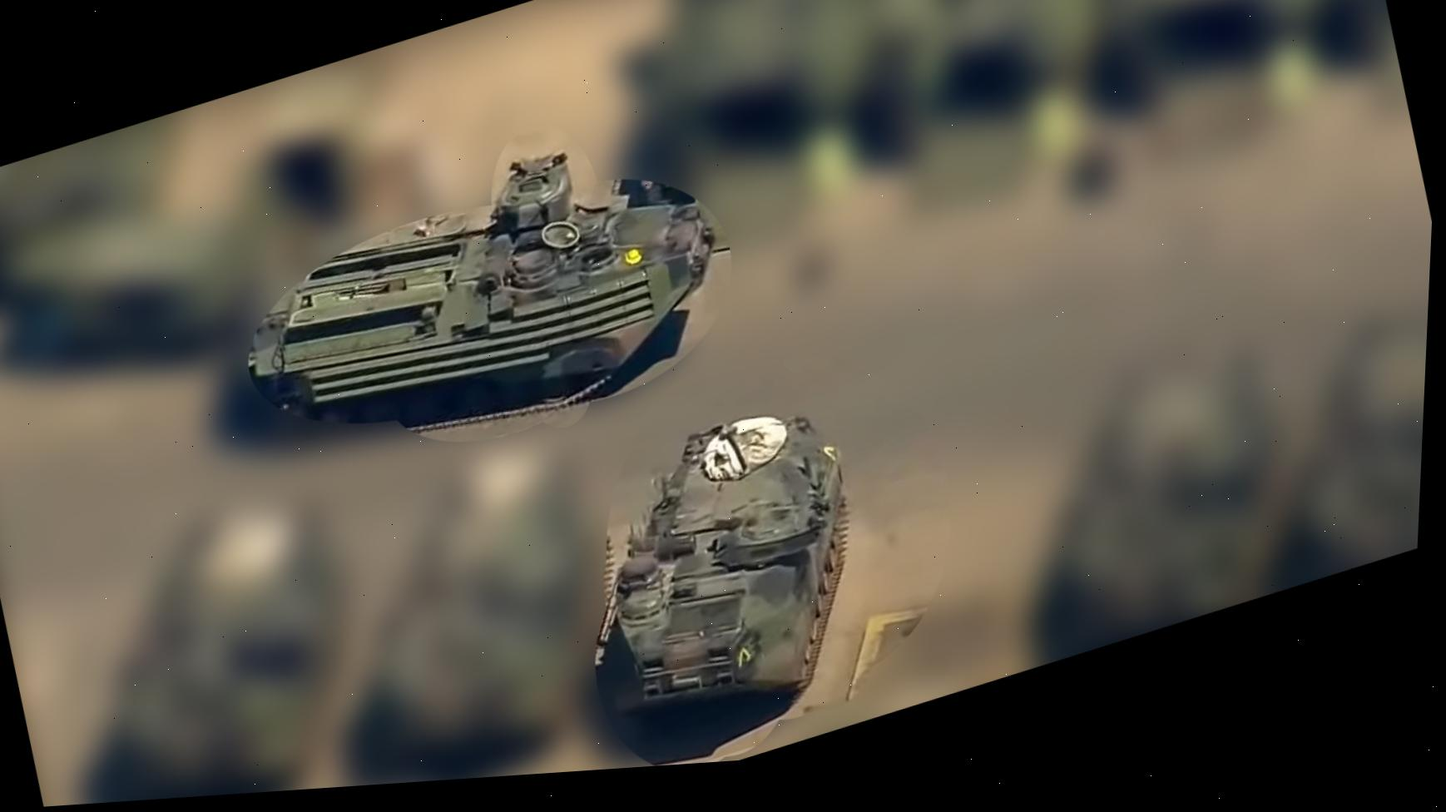armored_car: (208, 103, 750, 506), (540, 384, 905, 765)
